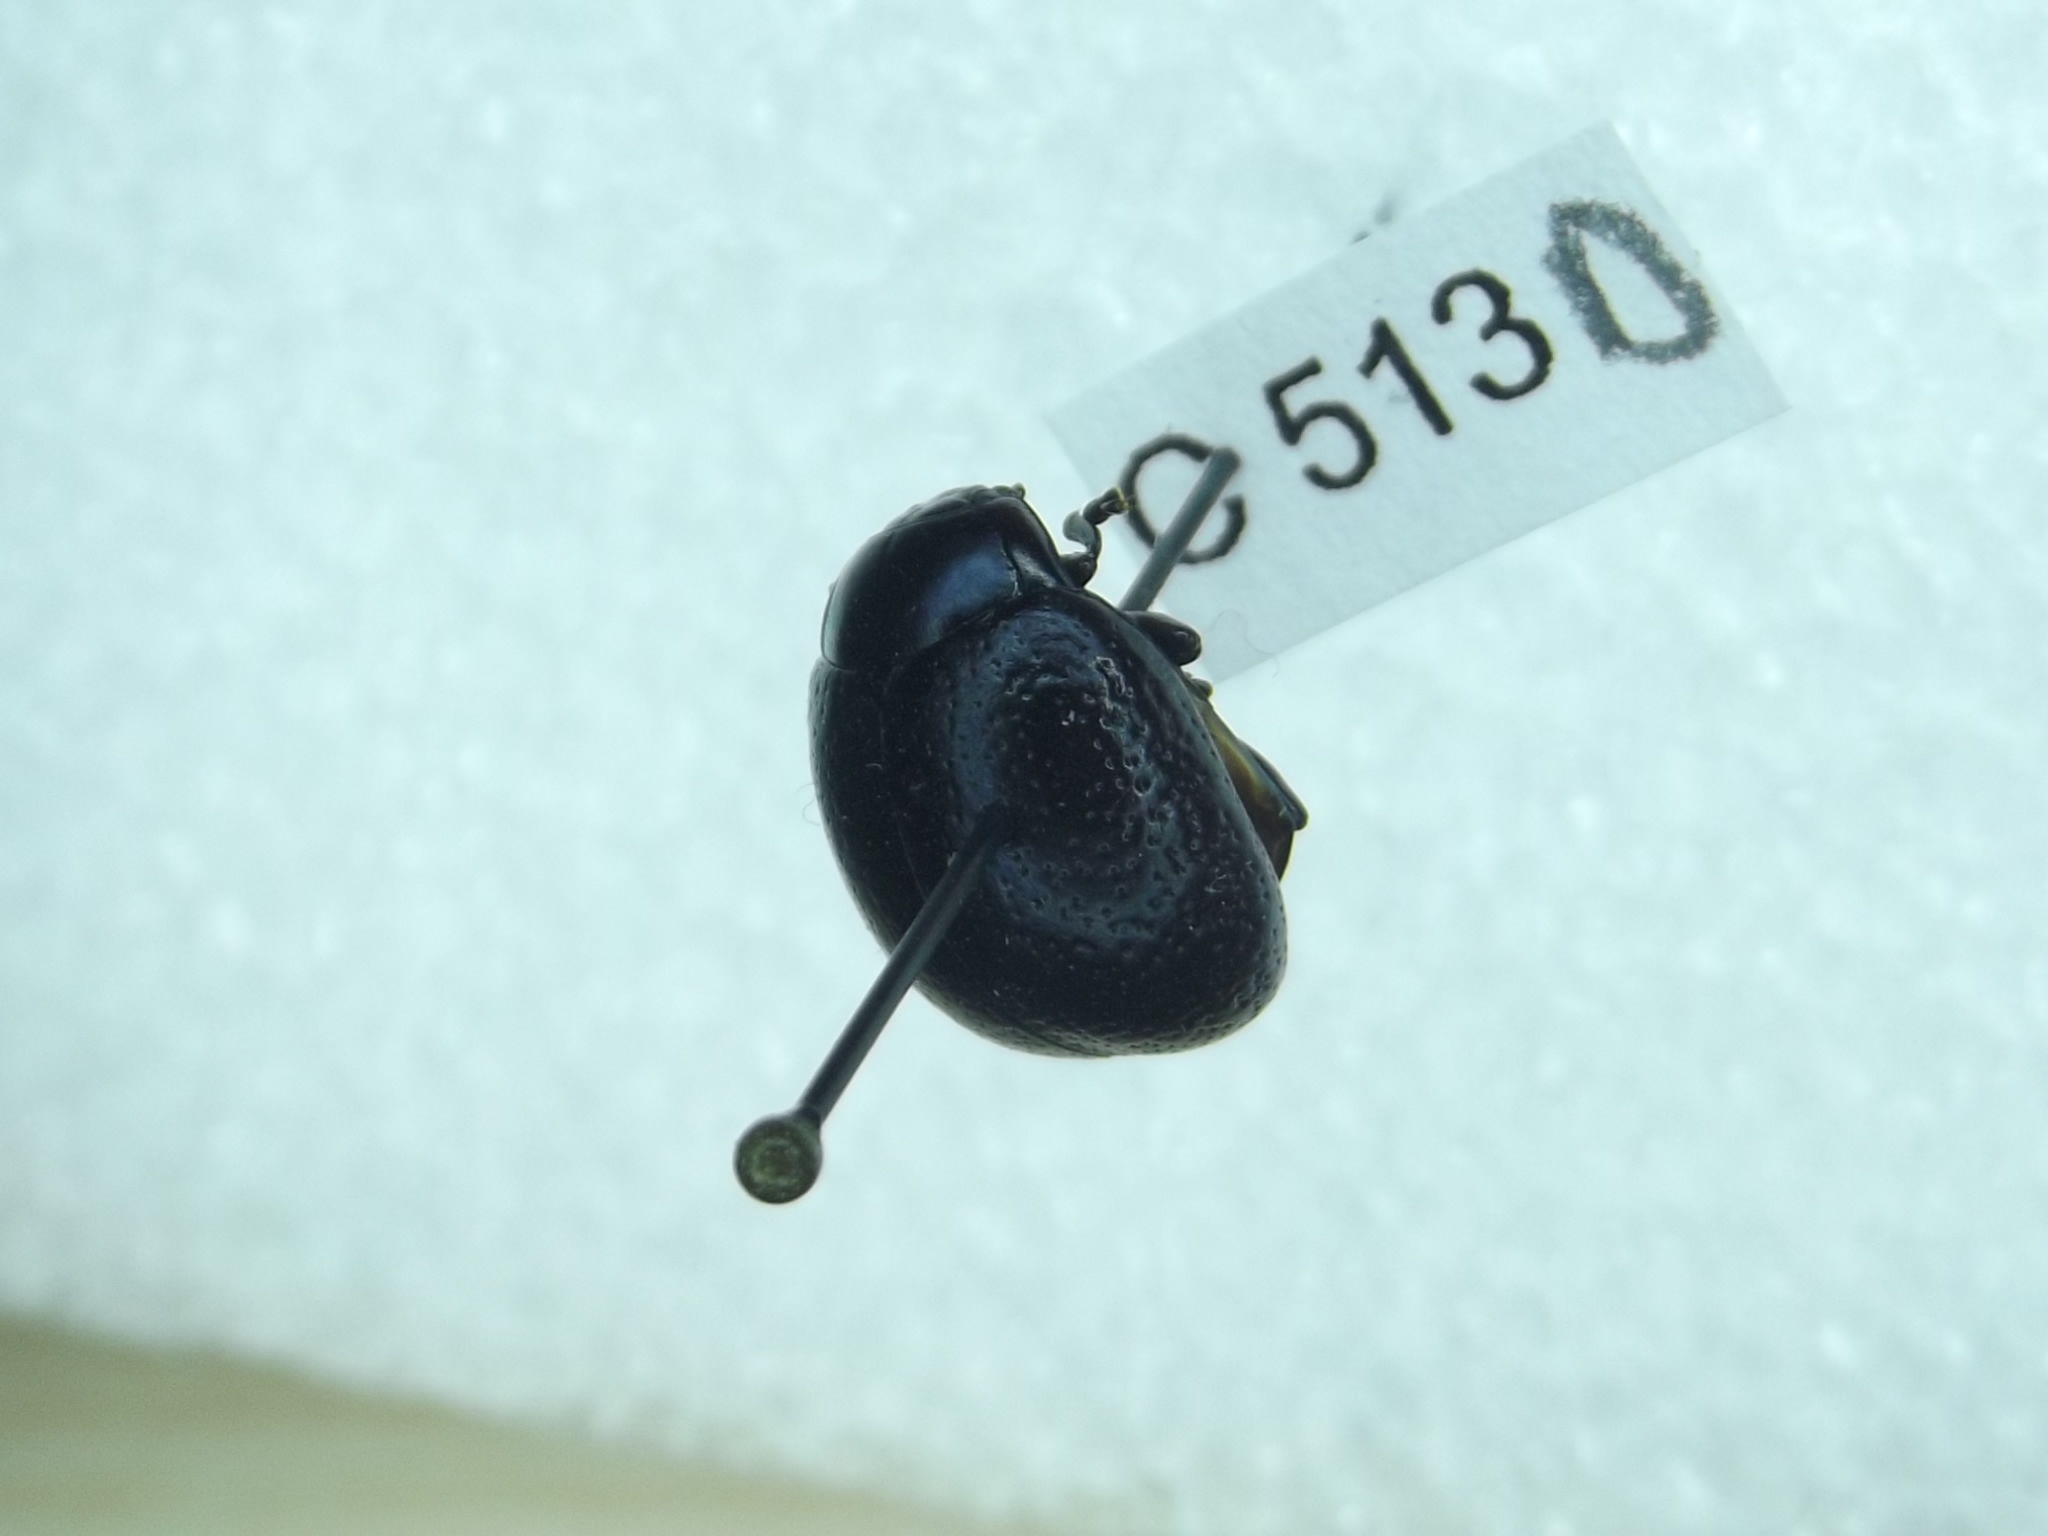Chrysolina_oricalcia: (805, 474, 1309, 1055)
